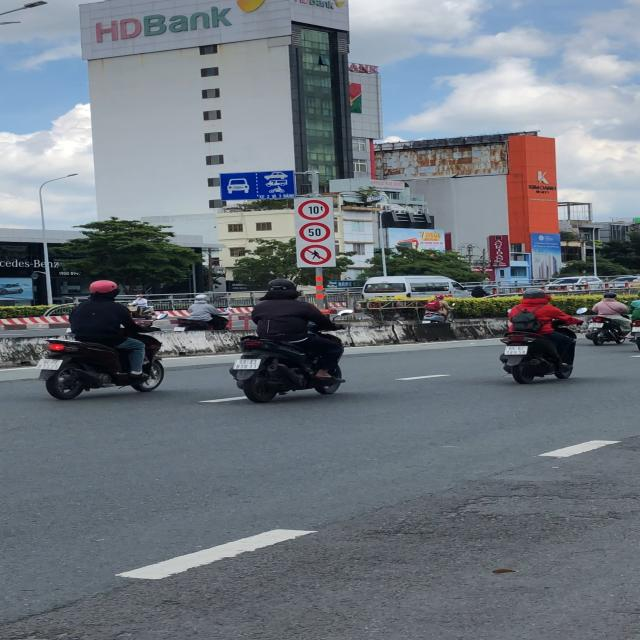Bien bao cam nguoi di bo: (300, 243, 334, 266)
Bien bao toc do toi da cho phep: (297, 222, 333, 243)
